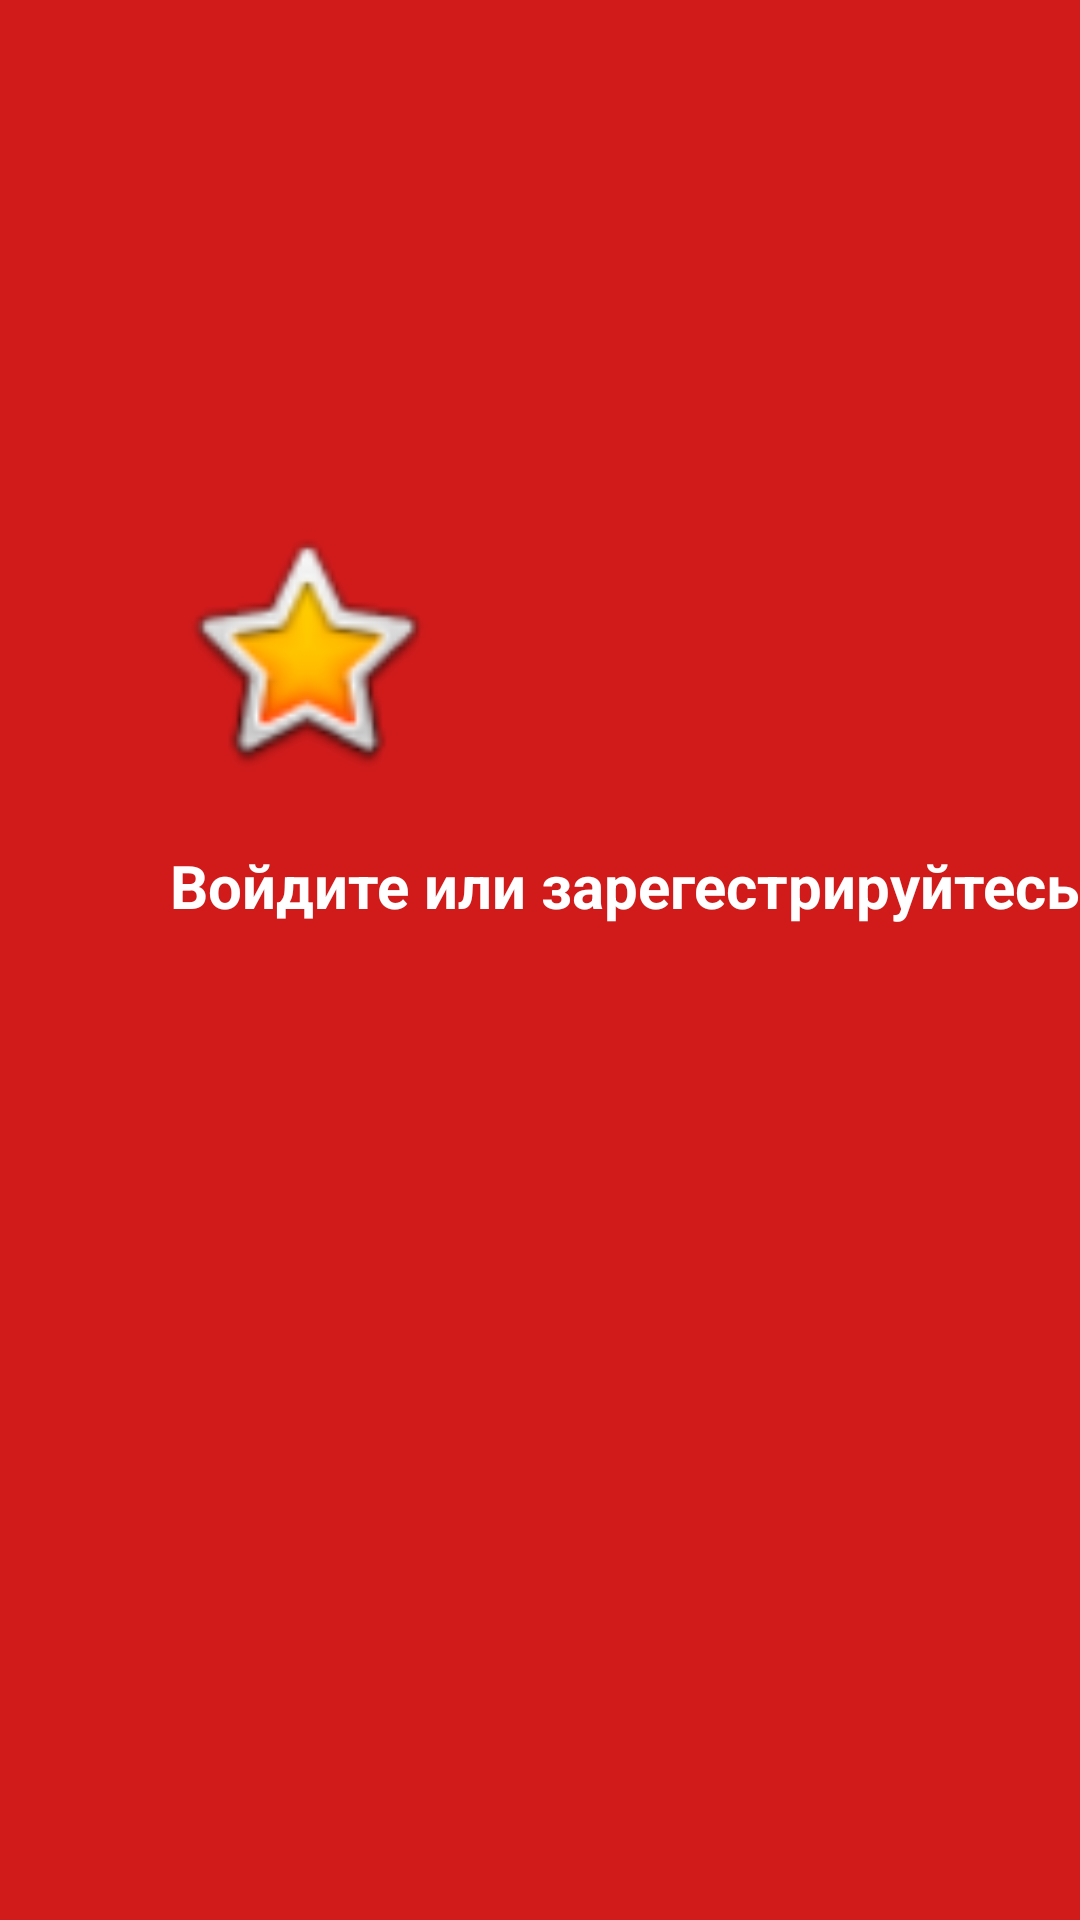

Screen size 1080*1920. Icon name, then its box in pixels as rect(x1, y1, x2, y2):
star on: rect(195, 543, 420, 761)
